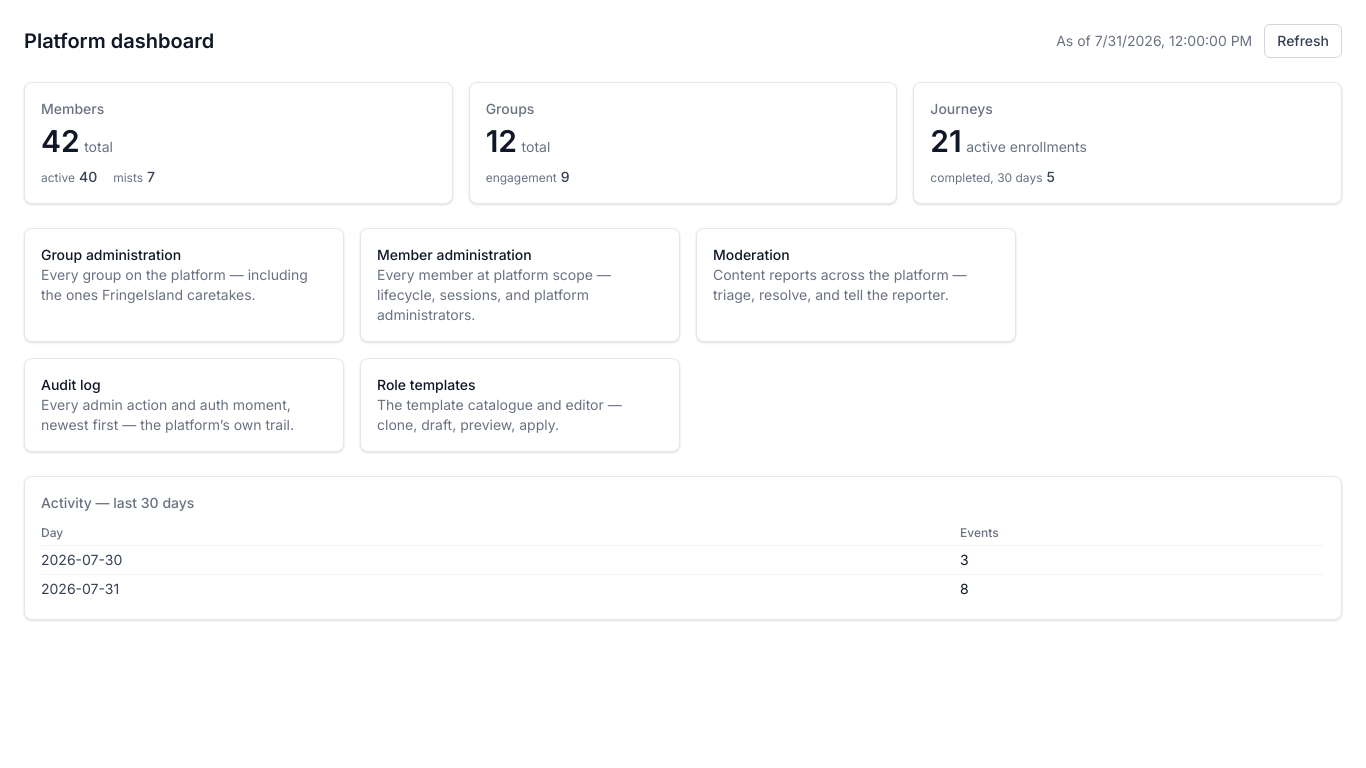
Scenario: FEAT-H034 — AdminDashboard › Refresh re-reads and repaints from the fresh payload
Expected: the text "42" is shown, 41,123 -> 80,159
Click the button "Refresh": [1303, 41] box 1264,24 -> 1342,58
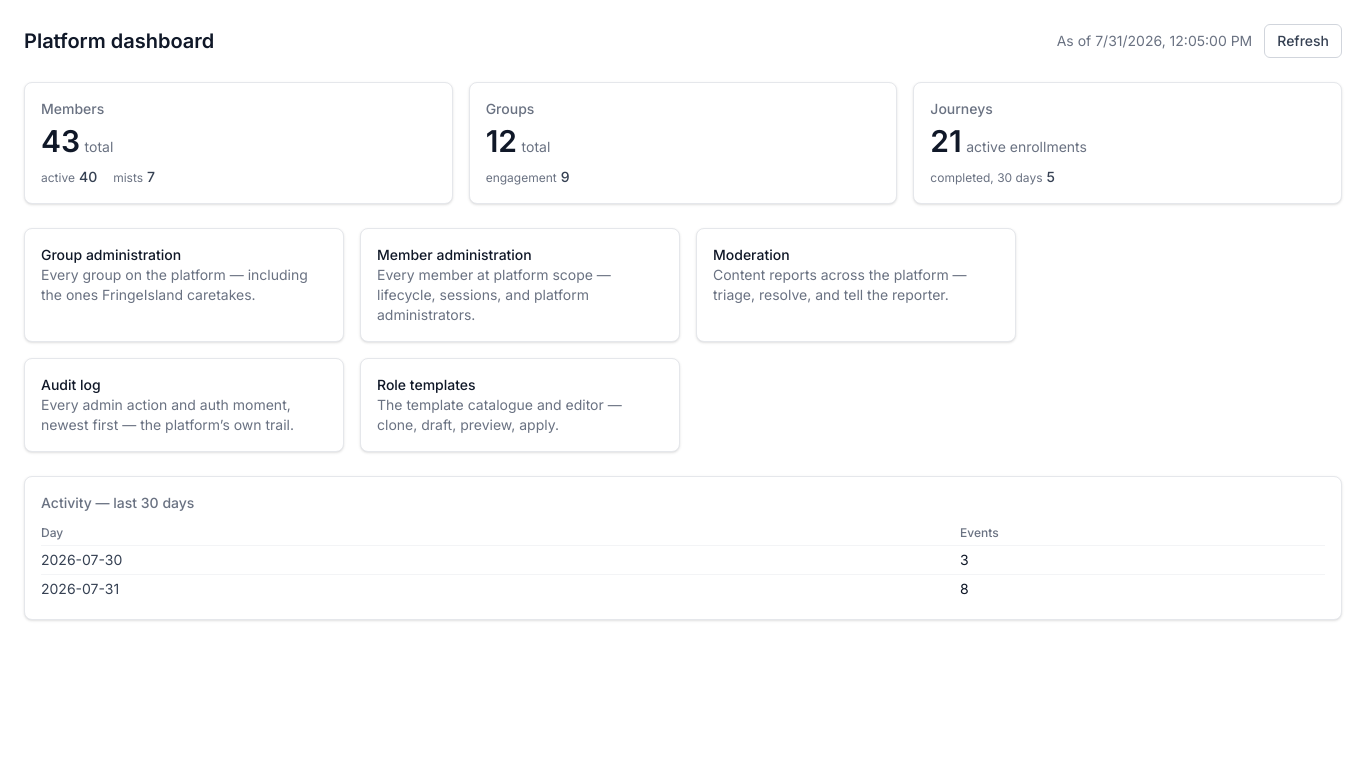
Expected: the text "43" is shown, 41,123 -> 80,159
